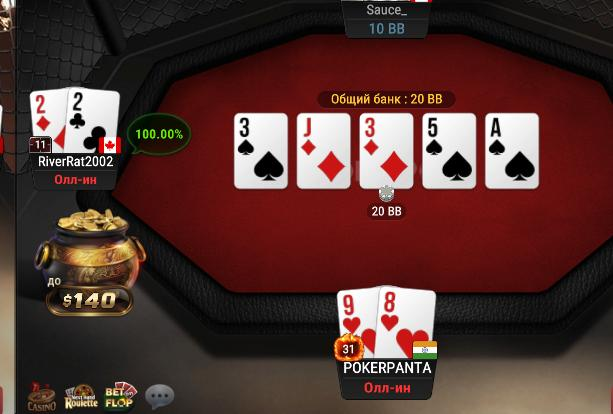2c: (67, 87, 117, 152)
2d: (30, 88, 67, 154)
3d: (359, 114, 412, 188)
3s: (233, 113, 288, 188)
5s: (423, 114, 476, 188)
8h: (376, 286, 437, 358)
9h: (337, 288, 376, 359)
As: (486, 114, 538, 188)
Jd: (297, 114, 349, 187)
